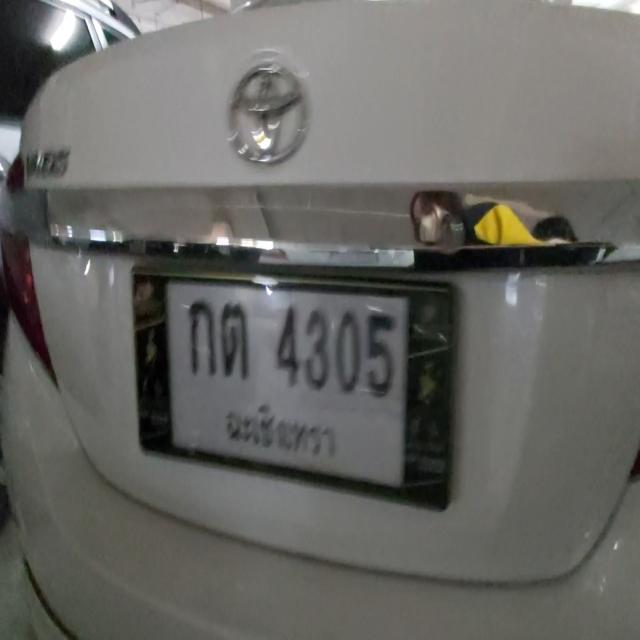license_plate: (165, 284, 405, 492)
